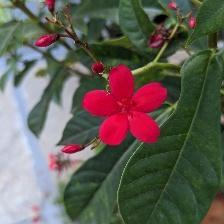jatropha: (85, 66, 168, 145)
